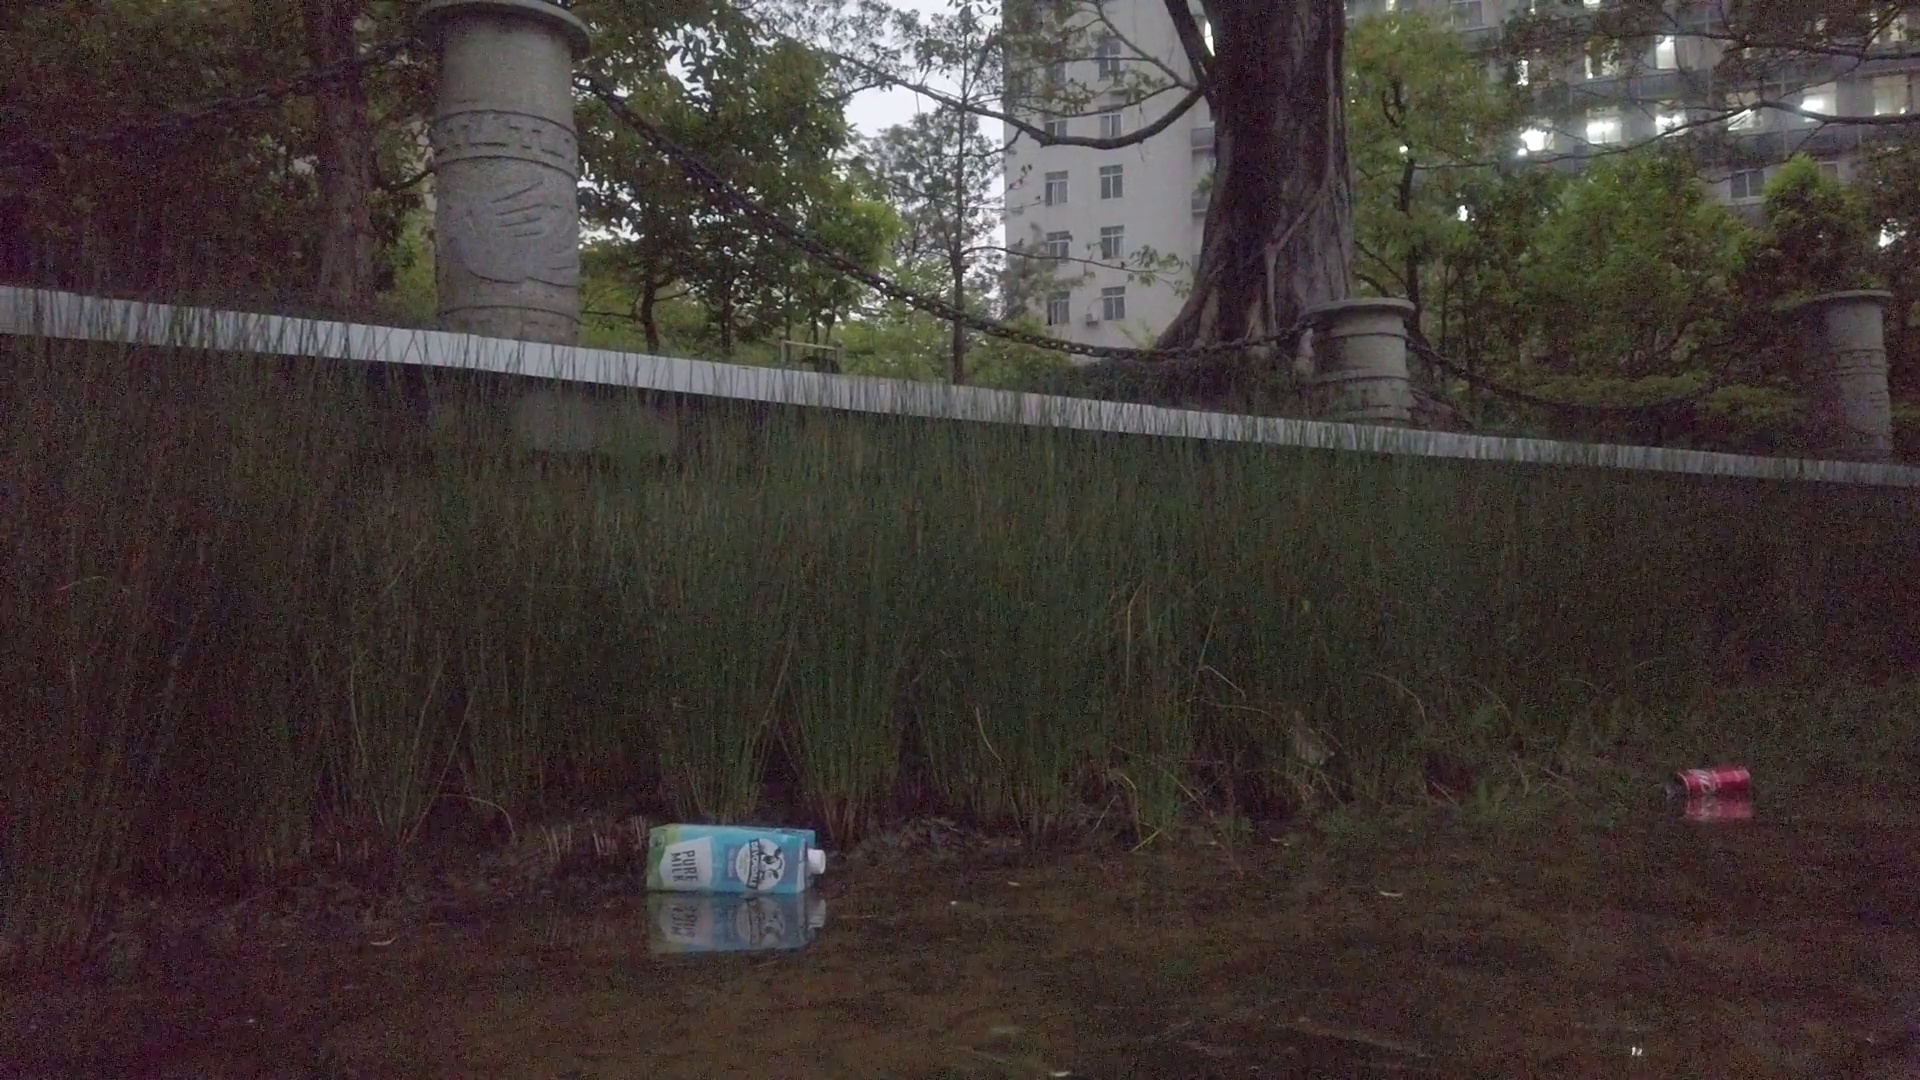bottle: (1664, 765, 1758, 795)
carton: (645, 824, 832, 895)
